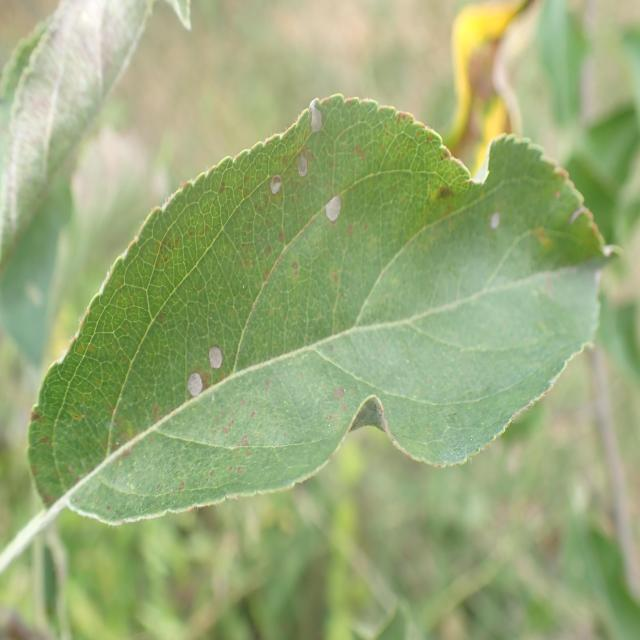frog-eye-leaf-spot: (30, 95, 625, 528)
